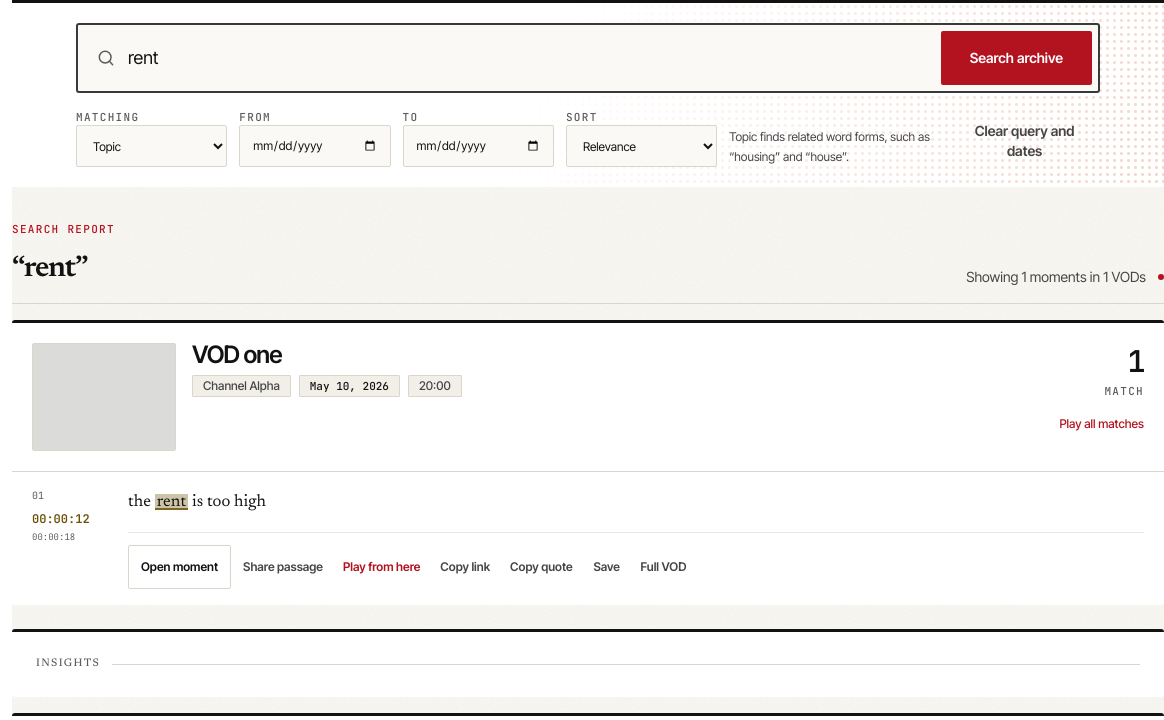
Test case: SearchPage › reports save failure without marking the result saved
The width and height of the screenshot is (1164, 720).
Step 1. Click the button with aria-label "Save moment" → (607, 567), box left=585, top=545, right=629, bottom=589
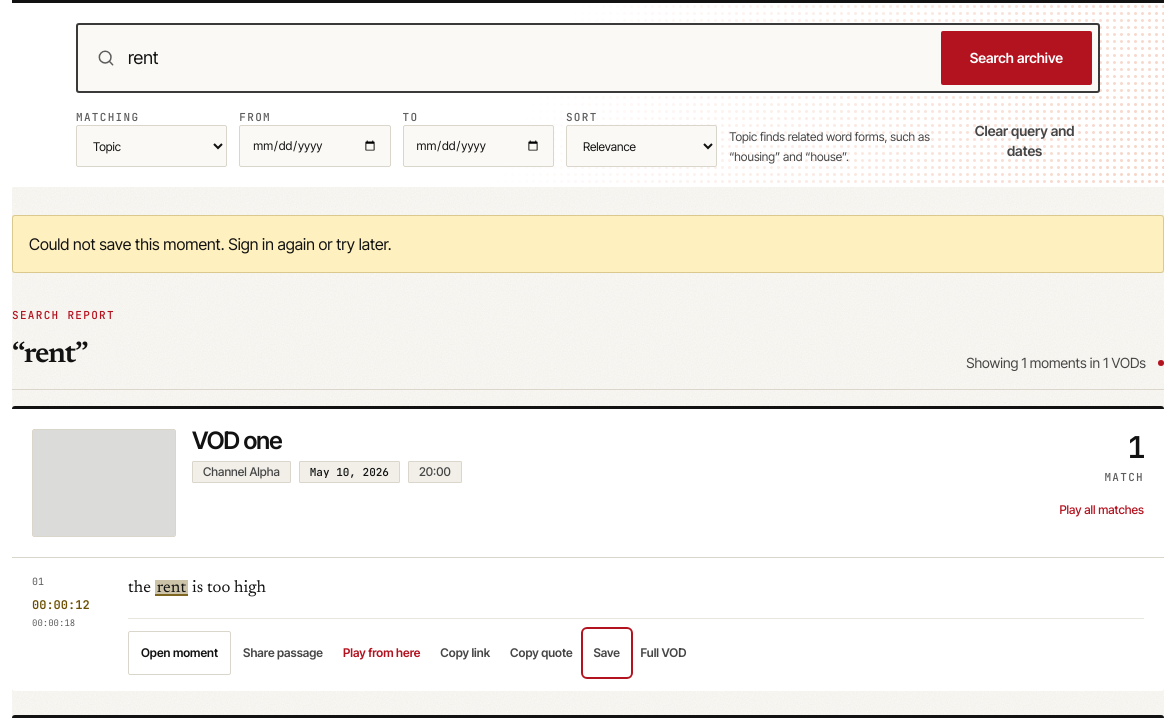
Expected: the button with aria-label "Save moment" is enabled, left=585, top=631, right=629, bottom=675
Expected: the message shows "Could not save this moment", left=29, top=234, right=392, bottom=254
